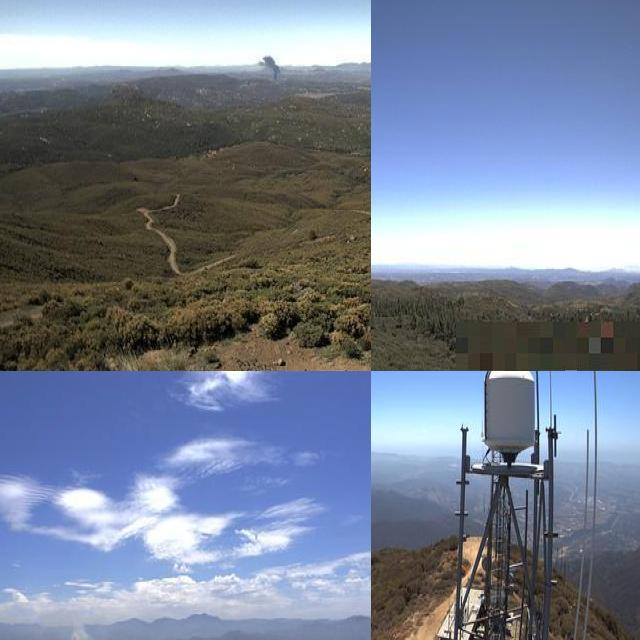smoke: (52, 611, 112, 640), (256, 50, 285, 83)
